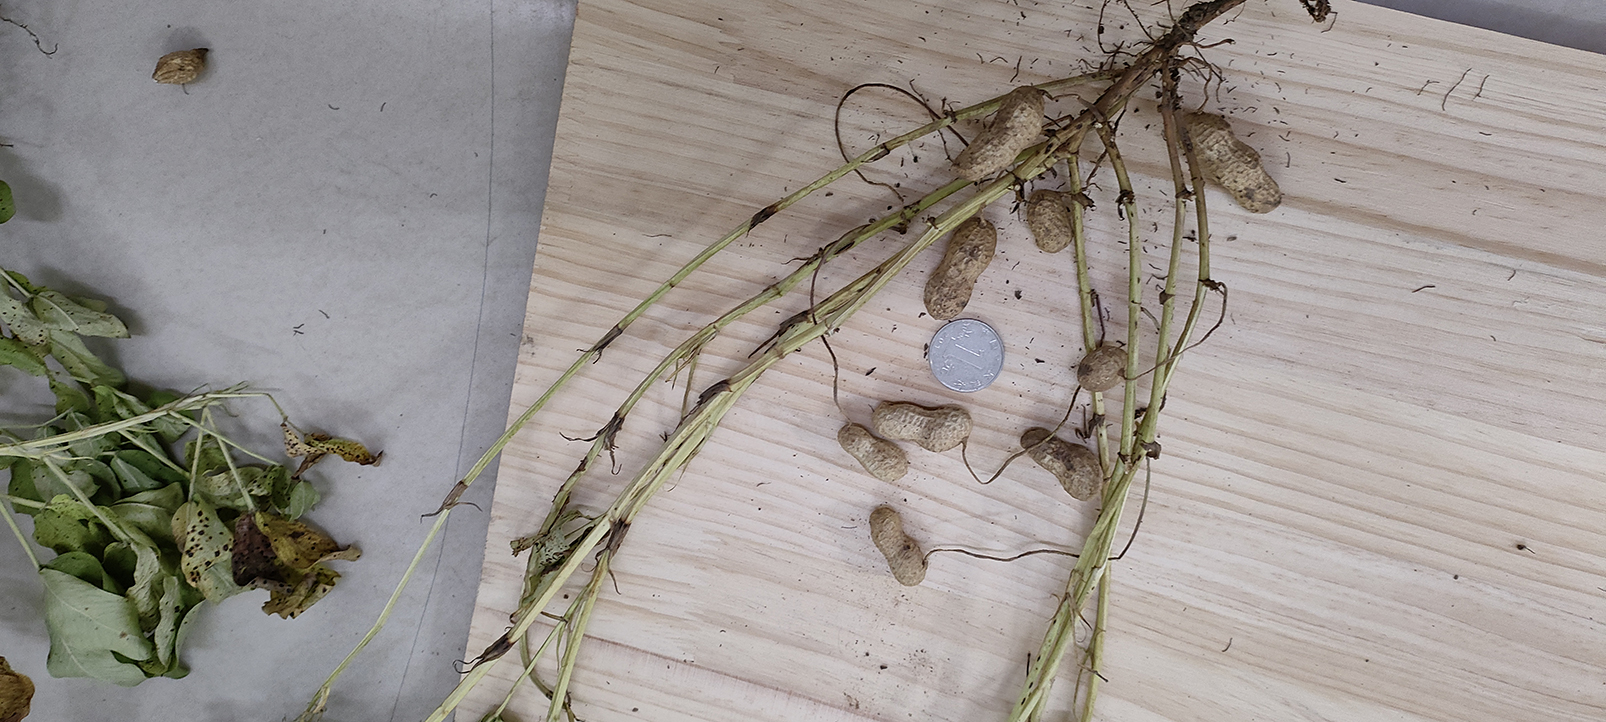h: (1186, 111, 1280, 213), (950, 85, 1045, 176), (923, 215, 997, 320), (871, 400, 974, 450), (870, 507, 927, 587), (838, 423, 910, 482), (1026, 189, 1077, 252), (1077, 345, 1124, 392)
l: (1021, 428, 1100, 500)
